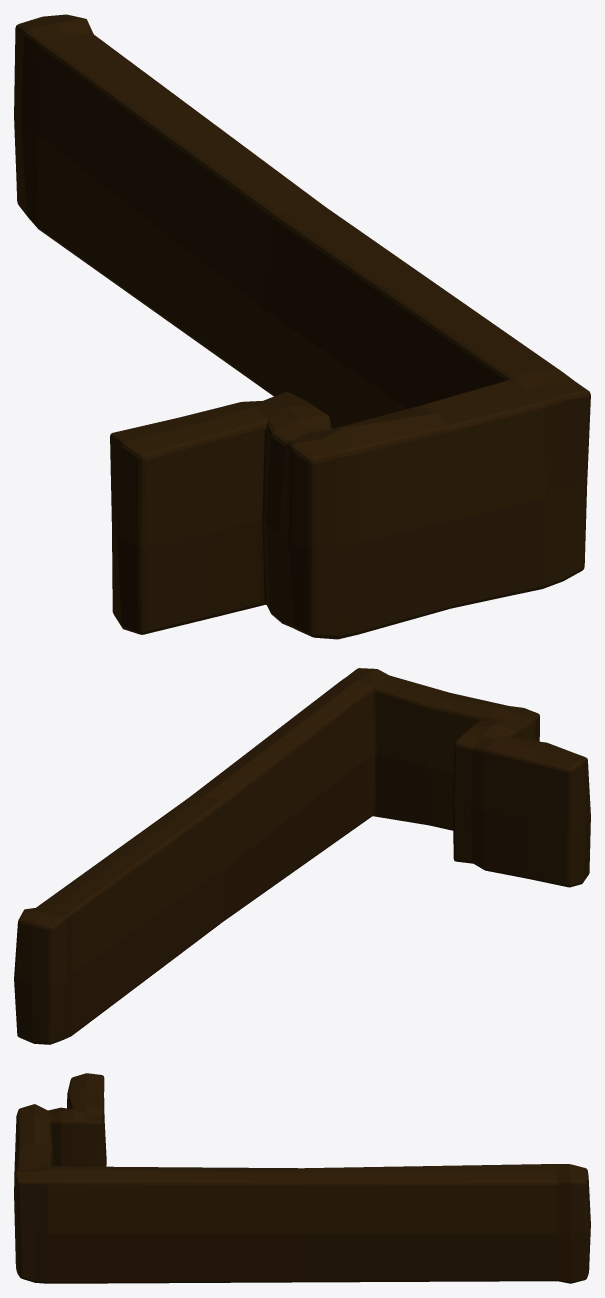
File: Wall piece 11.fbx
The picture shows the model from 3 angles, top to bottom: view 1: azimuth 30°, elevation 25°; view 2: azimuth 150°, elevation 25°; view 3: azimuth 270°, elevation 25°; orthographic projection. The views are drawn at different scales.
Parts seen in each view (by area): view 1: wall piece 11O; view 2: wall piece 11O; view 3: wall piece 11O.
Part boxes in pixels (box(x1,y1,x2,y2)): wall piece 11O: box(14, 14, 590, 639); wall piece 11O: box(14, 668, 590, 1044); wall piece 11O: box(14, 1073, 590, 1283).
Bounding box in the file's own units: 1028 × 2239 × 473.
